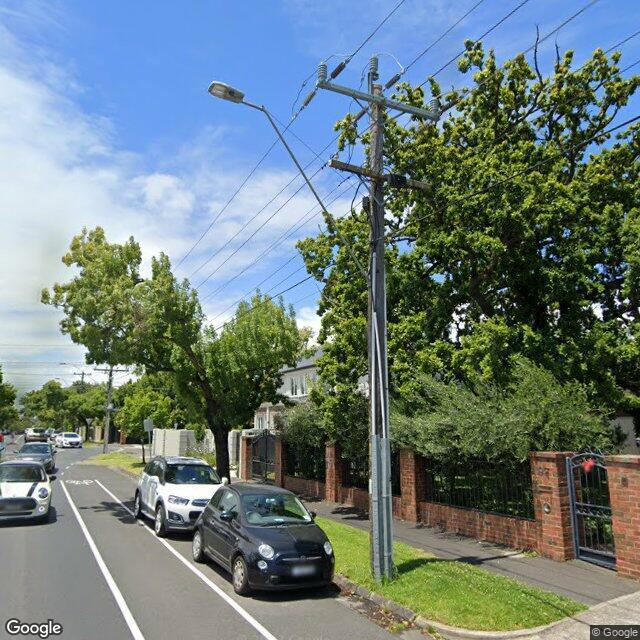HV-transmission: (318, 52, 440, 119)
crossarm: (317, 80, 439, 120), (321, 153, 434, 195), (93, 366, 130, 374), (74, 372, 92, 376)
streetlight: (207, 82, 370, 283)
timber-pole: (368, 84, 395, 583), (102, 365, 114, 454), (82, 370, 85, 383)
